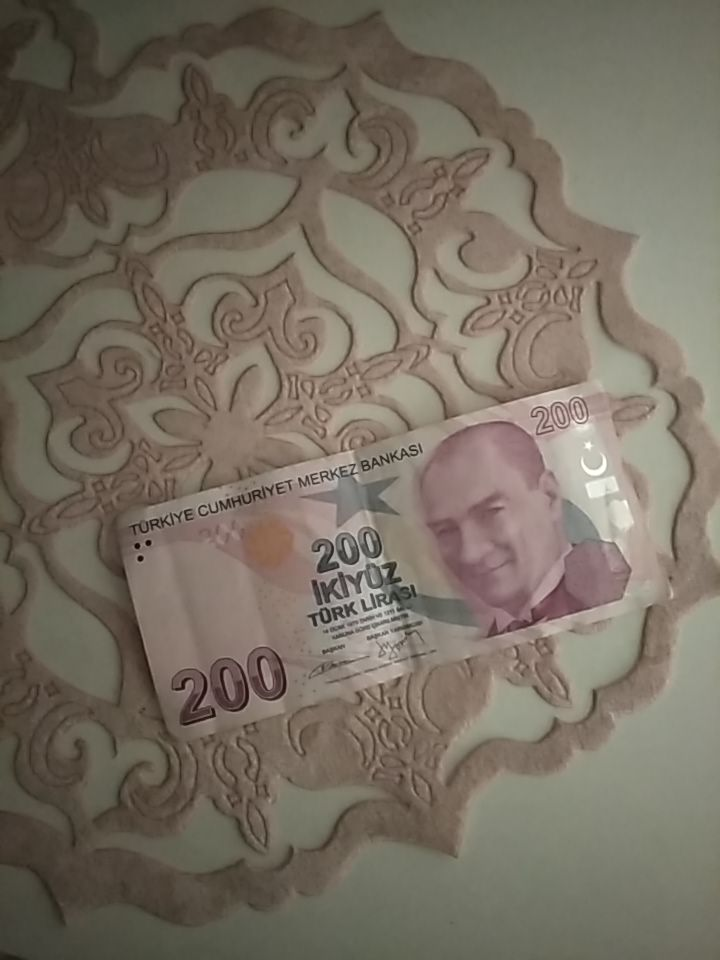200TL: (113, 378, 674, 740)
